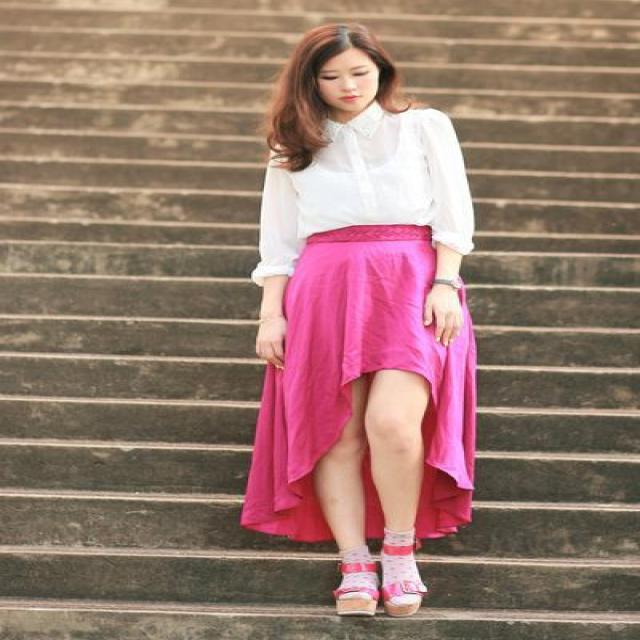shirt: (227, 103, 474, 268)
shoe: (330, 552, 440, 614)
skirt: (240, 224, 485, 549)
